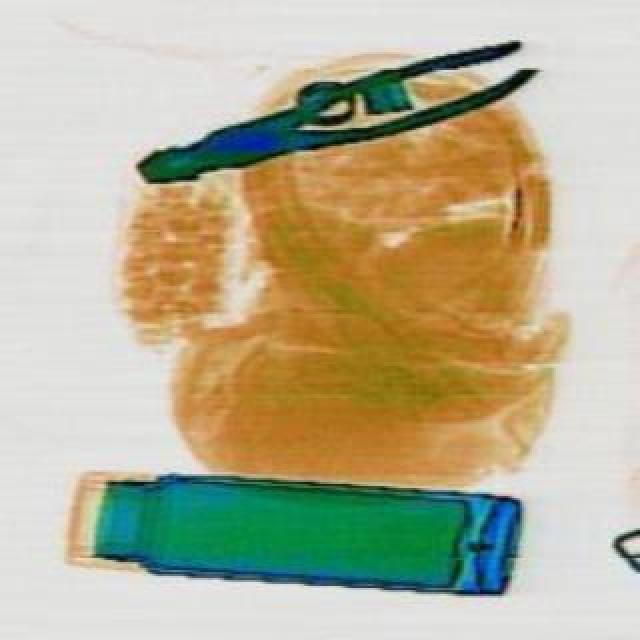wrench: (124, 26, 540, 206)
